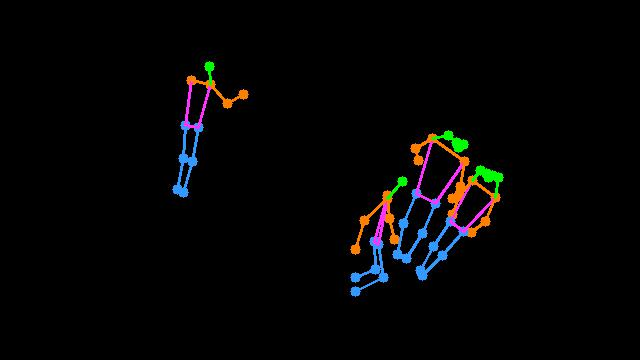normal: (337, 115, 516, 316)
